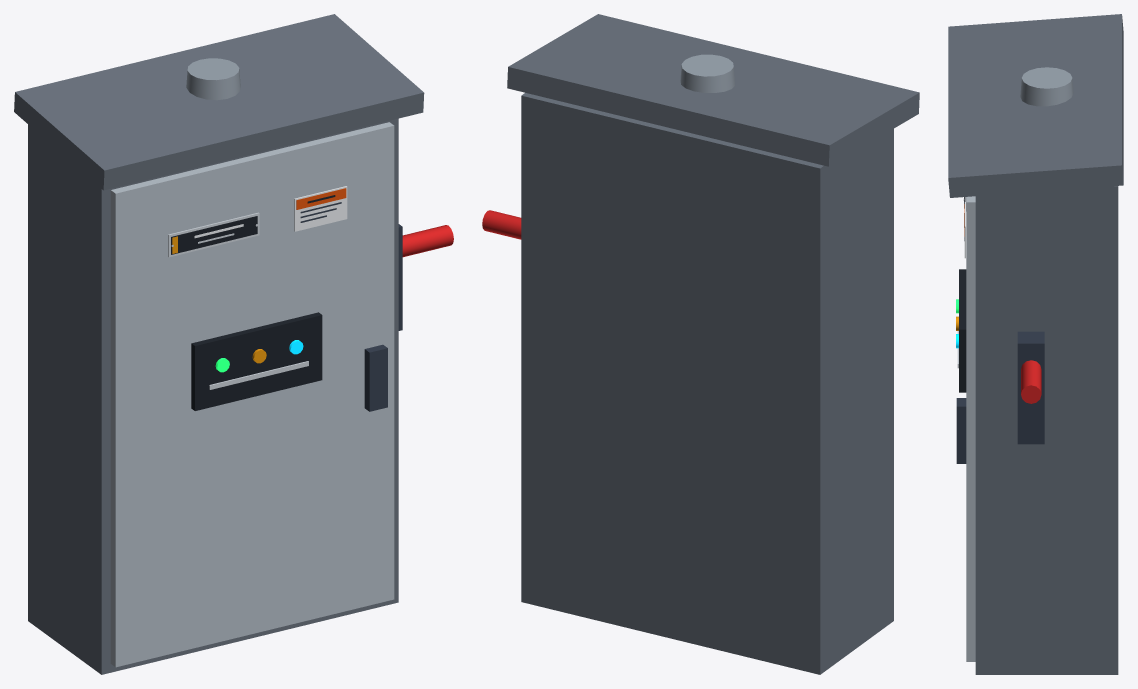
The picture shows the model from 3 angles, left to right: view 1: azimuth 30°, elevation 25°; view 2: azimuth 150°, elevation 25°; view 3: azimuth 270°, elevation 25°; orthographic projection. The views are drawn at different scales.
Visible parts, largest first — view 1: cad-transfer-switch-200a, panel-nameplate-placards; view 2: cad-transfer-switch-200a; view 3: cad-transfer-switch-200a.
Part boxes in pixels (left/top/right/bottom): cad-transfer-switch-200a: left=14, top=14, right=453, bottom=674; panel-nameplate-placards: left=168, top=186, right=347, bottom=257; cad-transfer-switch-200a: left=482, top=14, right=919, bottom=674; cad-transfer-switch-200a: left=948, top=14, right=1123, bottom=674.
Size of the model in its own units: 0.547 by 0.755 by 0.2215.
